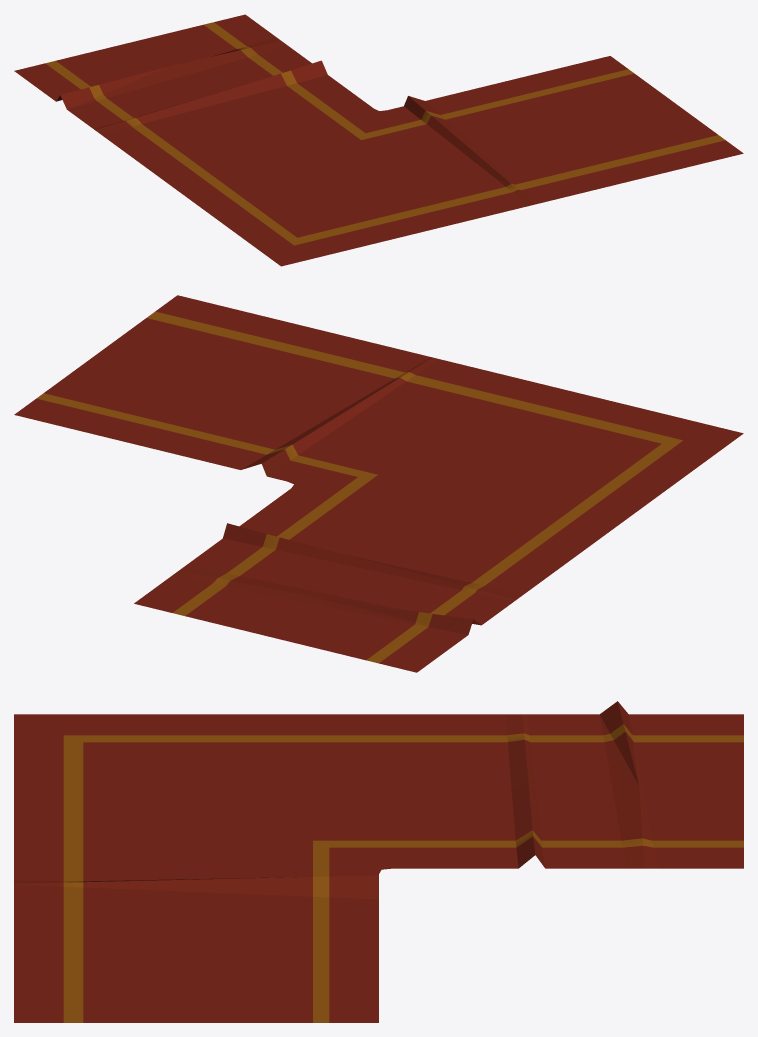
The model's file is Carpet_Corner.fbx.
The picture shows the model from 3 angles, top to bottom: view 1: azimuth 30°, elevation 25°; view 2: azimuth 150°, elevation 25°; view 3: azimuth 270°, elevation 25°; orthographic projection. The views are drawn at different scales.
Parts seen in each view (by area): view 1: carpet_corner; view 2: carpet_corner; view 3: carpet_corner.
Part boxes in pixels (box(x1,y1,x2,y2)): carpet_corner: box(14, 14, 743, 266); carpet_corner: box(14, 295, 743, 672); carpet_corner: box(14, 701, 743, 1022).
Bounding box in the file's own units: 7.68 × 0.1575 × 7.68.
